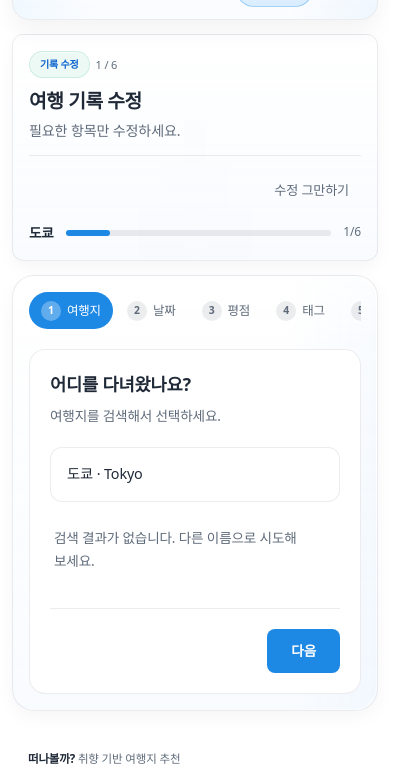
Test case: AccountHistoryCreateExperience destination autocomplete › waits for IME composition to finish before adding a custom hashtag
Click the button with test id "new-history-next" at (304, 651), box [267,629,340,673]
(page scrolled)
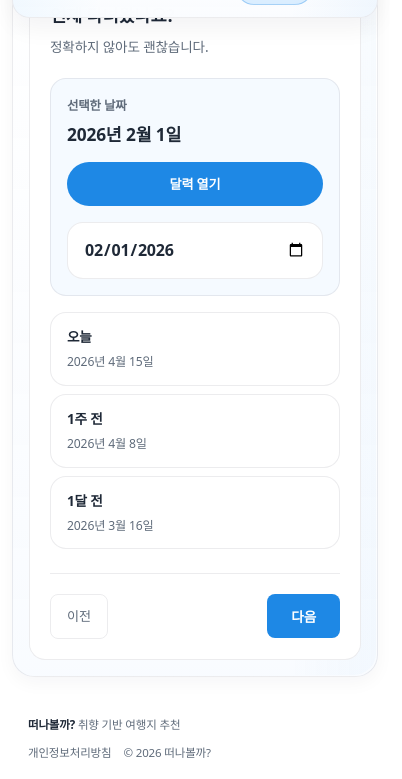
Click the button with test id "new-history-next" at (304, 616), box [267,594,340,638]
(page scrolled)
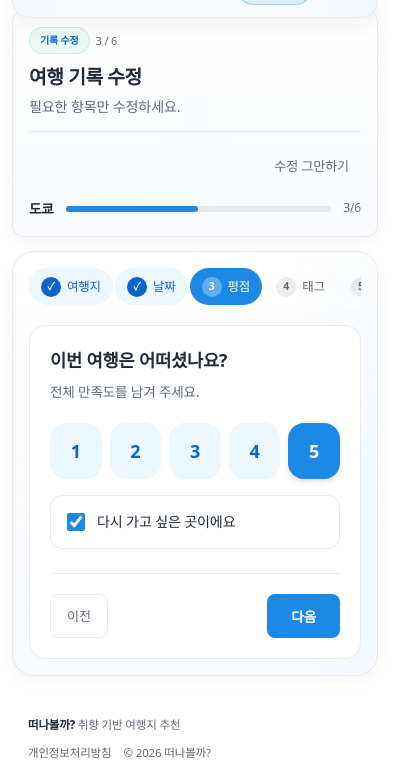
Click the button with test id "new-history-next" at (304, 616), box [267,594,340,638]
(page scrolled)
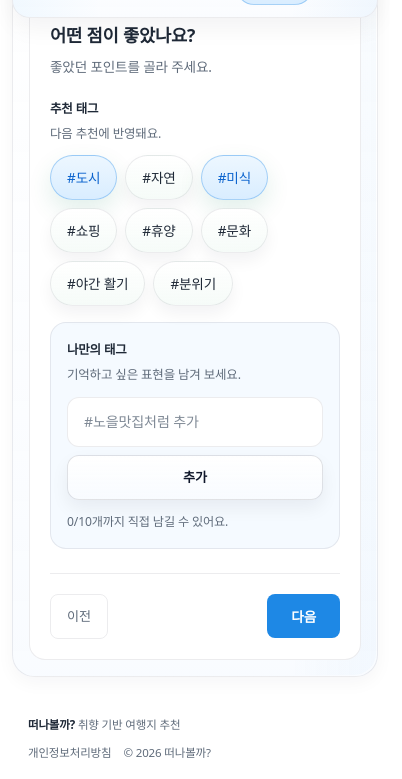
Type "아아" into the field with test id "new-history-custom-tag-input" at (195, 422), box [67,398,323,447]
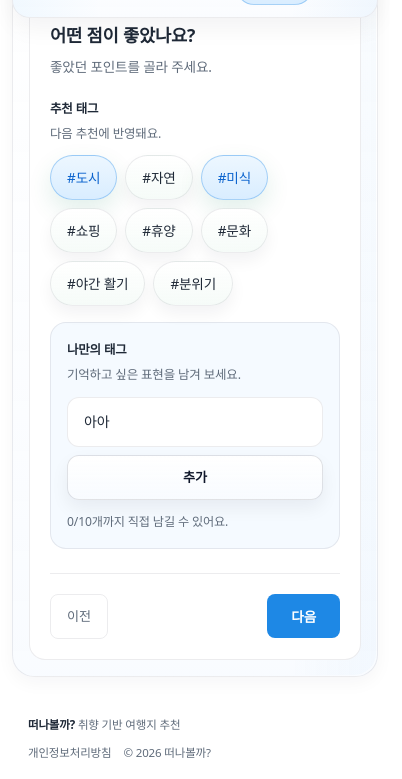
Click the button with test id "new-history-custom-tag-add" at (195, 478), box [67,455,323,500]
(page scrolled)
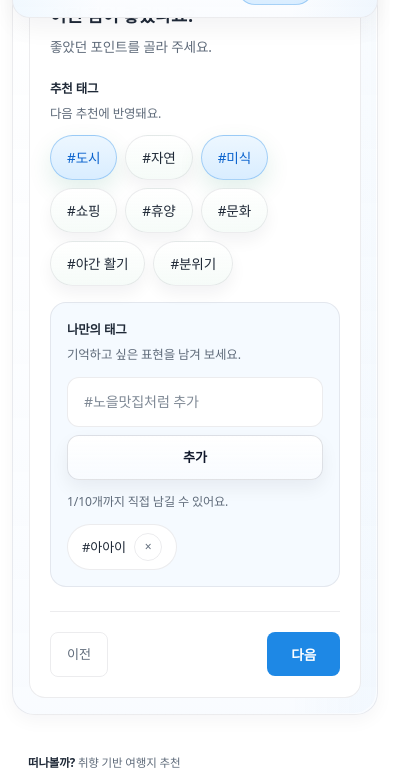
expect the text "#아아이" is shown: met, box [82,536,126,559]
